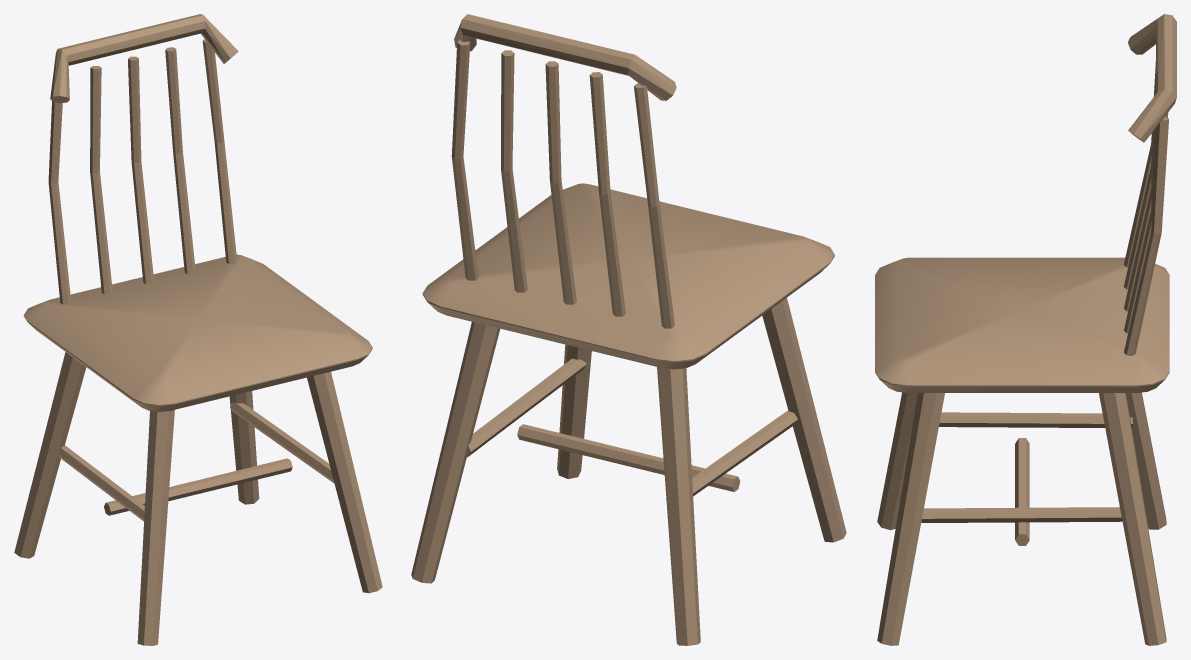
The model's file is restaurant-kitchen-and-dining-spindle-back-chair-39fc7e7b__16504.glb.
The picture shows the model from 3 angles, left to right: view 1: azimuth 30°, elevation 25°; view 2: azimuth 150°, elevation 25°; view 3: azimuth 270°, elevation 25°; orthographic projection. The views are drawn at different scales.
Visible parts, largest first — view 1: spindle-back-chair; view 2: spindle-back-chair; view 3: spindle-back-chair.
Boxes of the visible parts, x1=… form: spindle-back-chair: x1=14, y1=14, x2=382, y2=645; spindle-back-chair: x1=411, y1=14, x2=846, y2=645; spindle-back-chair: x1=875, y1=14, x2=1176, y2=645.
Bounding box in the file's own units: 0.4528 × 0.8796 × 0.4506.
